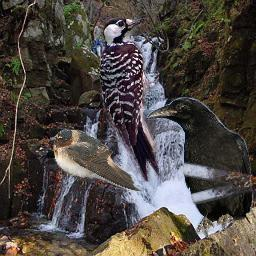Crow: (146, 97, 254, 237)
Swallow: (50, 129, 141, 192)
Woodpecker: (100, 15, 159, 182)
